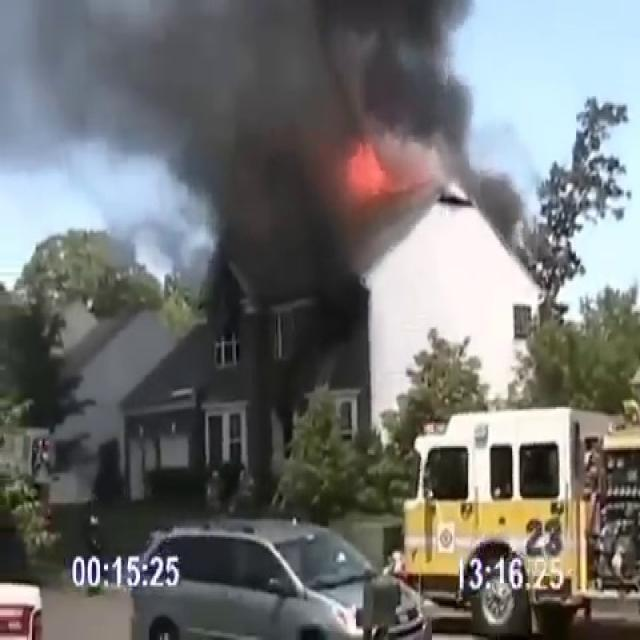Fire: (340, 136, 390, 200)
Smoke: (8, 0, 524, 318)
